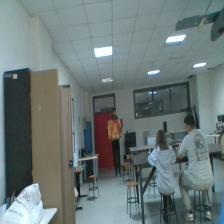fire-poster: (108, 119, 122, 139)
